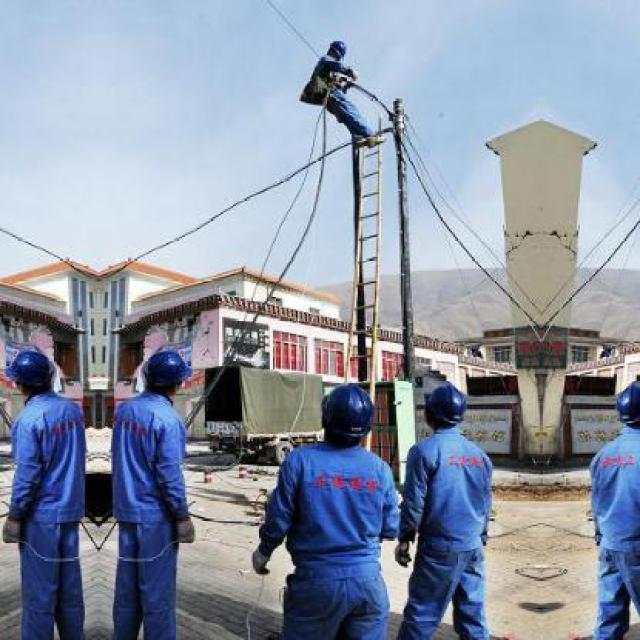helmet: (318, 378, 374, 447), (421, 373, 469, 430), (144, 343, 188, 395), (9, 343, 53, 395), (611, 372, 637, 431), (321, 32, 350, 66)
